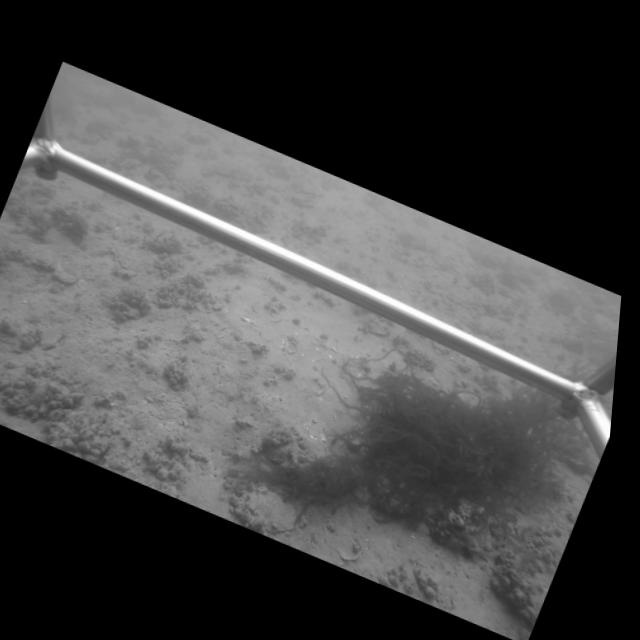Oyster-Closed: (50, 268, 79, 285)
Oyster-Indeterminate: (237, 484, 301, 534)
